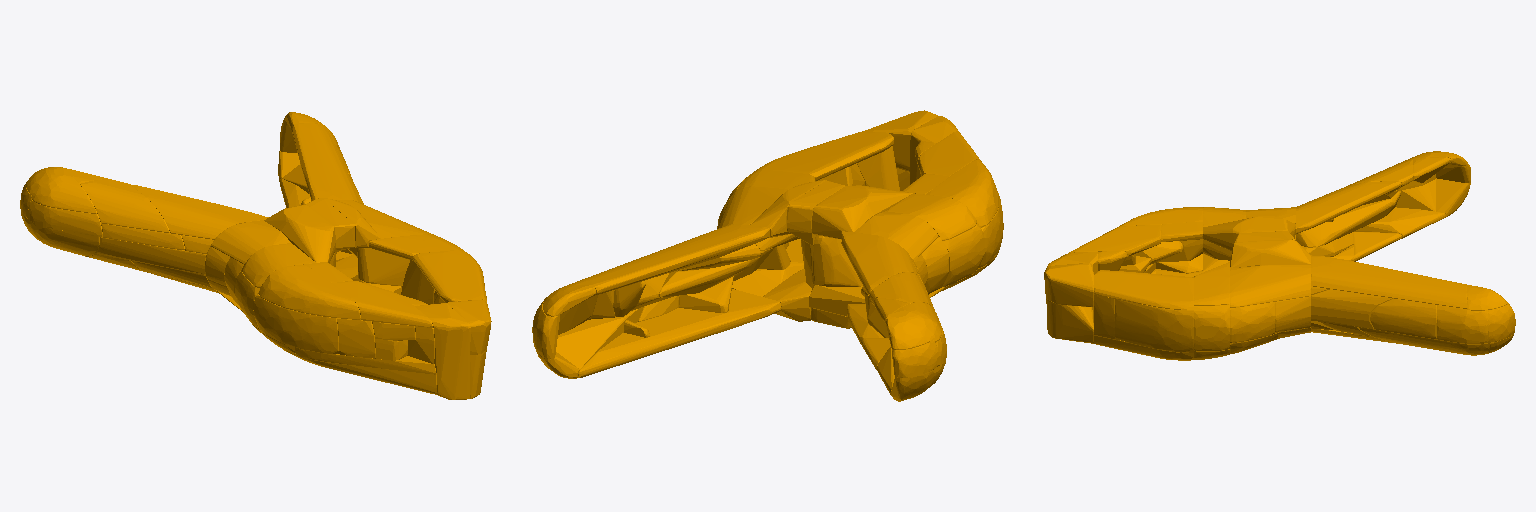
The robot description file, URDF, robot "051_large_clamp":
<?xml version="1.0" encoding="UTF-8"?>
<robot name="051_large_clamp">
	<link name="base">
		<collision>
			<geometry>
				<mesh filename="..\vhacd\051_large_clamp_vhacd.obj" scale="1.0 1.0 1.0"/>
			</geometry>
			<origin xyz="0 0 0"/>
			<contact_coefficients mu="0.24" />
		</collision>
		<visual>
			<geometry>
				<mesh filename="..\vhacd\051_large_clamp_vhacd.obj" scale="1.0 1.0 1.0"/>
			</geometry>
			<origin xyz="0 0 0"/>
		</visual>
		<inertial>
			<mass value="0.125"/>
			<inertia ixx="0.00019683670361204445" ixy="1.5407917464801627e-05" ixz="9.783545404394075e-06" iyy="0.00011060134156598956" iyz="-9.79101335641278e-06" izz="0.00028844939601873286" />
			<origin xyz="-0.002385306165377731 -0.02157180480868805 0.017436900334307823"/>
		</inertial>
	</link>
</robot>

--- What the picture shows (computed from the rendered views, not written in the file) ---
The picture shows the robot from 3 angles, left to right: view 1: azimuth 30°, elevation 25°; view 2: azimuth 150°, elevation 25°; view 3: azimuth 270°, elevation 25°; orthographic projection.
Model 051_large_clamp with 1 links and 0 joints (none), rooted at base, posed all joints at 0.
Visible links, largest first — view 1: base; view 2: base; view 3: base.
Link boxes in pixels (<box>): base: <box>20,112,491,399</box>; base: <box>532,110,1003,401</box>; base: <box>1044,151,1515,360</box>.
Bounding box of the posed robot: 0.1204 × 0.1713 × 0.0394 m (x, y, z).
1 mesh visuals loaded from 1 distinct referenced files (1 OBJ).